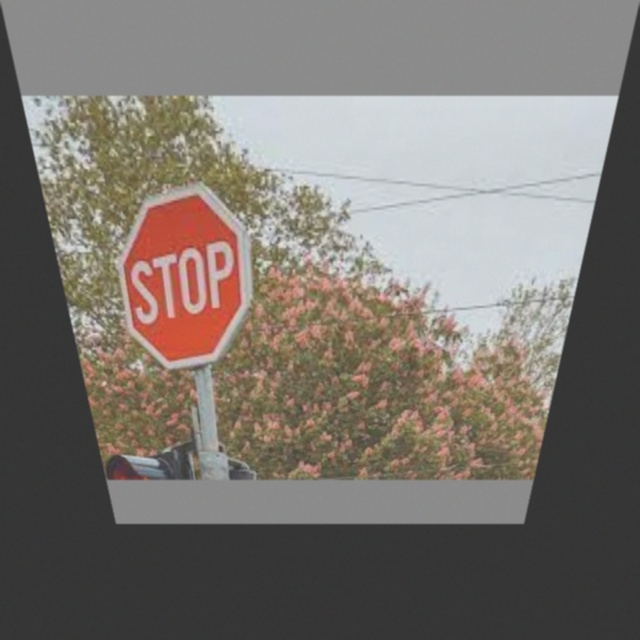Stop: (107, 188, 254, 366)
